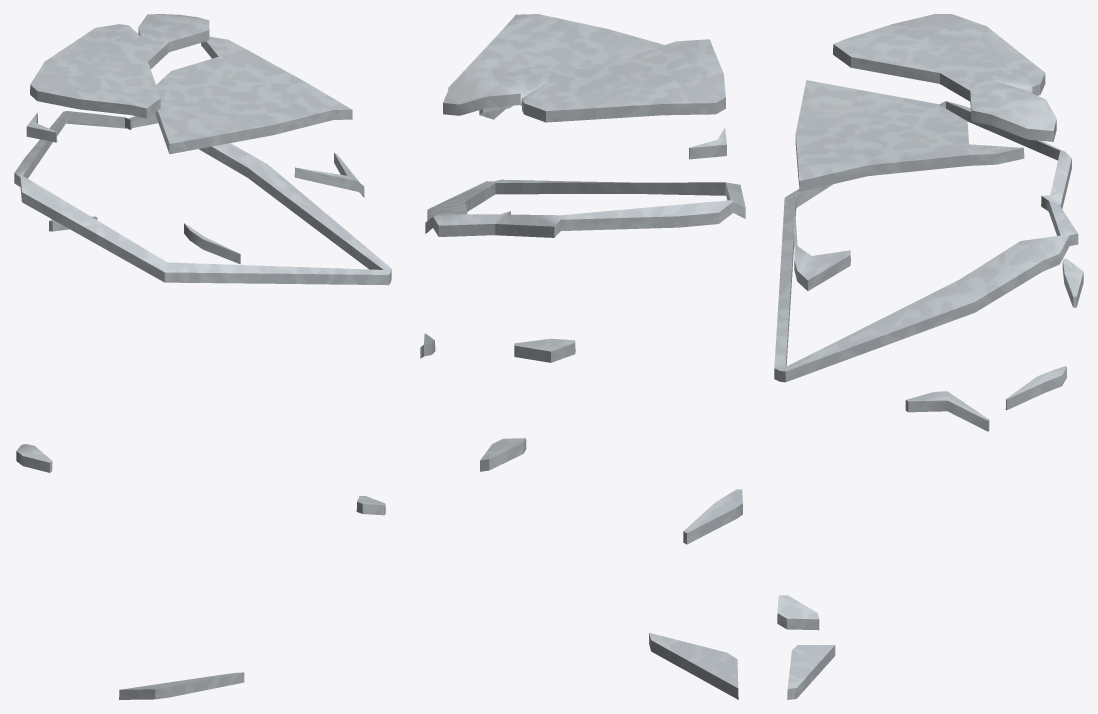
The model's file is Cliff_14_Snow.fbx.
3 views of the same model, side by side, from view 1: azimuth 30°, elevation 25°; view 2: azimuth 150°, elevation 25°; view 3: azimuth 270°, elevation 25° (orthographic). The views are drawn at different scales.
Visible parts, largest first — view 1: Cliff_14_Snow; view 2: Cliff_14_Snow; view 3: Cliff_14_Snow.
Part boxes in pixels (left/top/right/bottom): Cliff_14_Snow: left=14, top=14, right=391, bottom=699; Cliff_14_Snow: left=420, top=14, right=745, bottom=699; Cliff_14_Snow: left=774, top=14, right=1083, bottom=699.
Bounding box in the file's own units: 2510 × 4681 × 2090.
